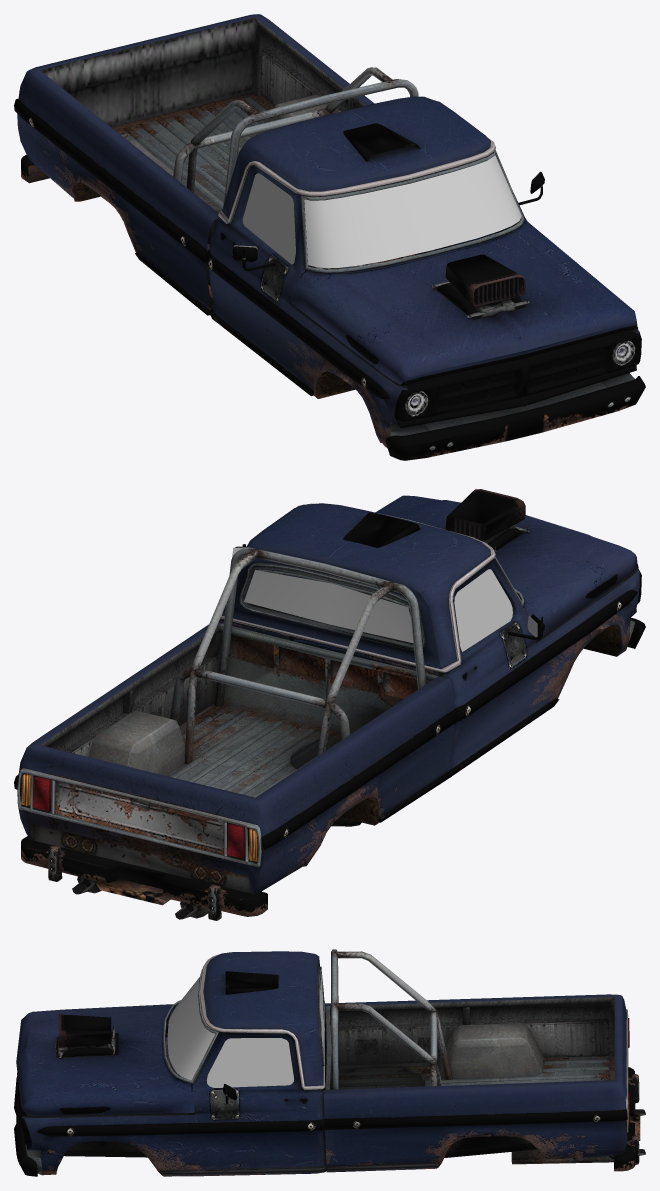
The picture shows the model from 3 angles, top to bottom: view 1: azimuth 30°, elevation 25°; view 2: azimuth 150°, elevation 25°; view 3: azimuth 270°, elevation 25°; orthographic projection. The views are drawn at different scales.
Parts seen in each view (by area): view 1: TruckFirewheels, windows; view 2: TruckFirewheels, windows; view 3: TruckFirewheels, windows.
Part boxes in pixels (x1,y1,x2,y2): TruckFirewheels: (14, 14, 645, 460); windows: (232, 155, 540, 268); TruckFirewheels: (14, 489, 645, 920); windows: (232, 547, 537, 651); TruckFirewheels: (14, 949, 645, 1176); windows: (167, 974, 324, 1099).
Bounding box in the file's own units: 125 × 81.31 × 281.
